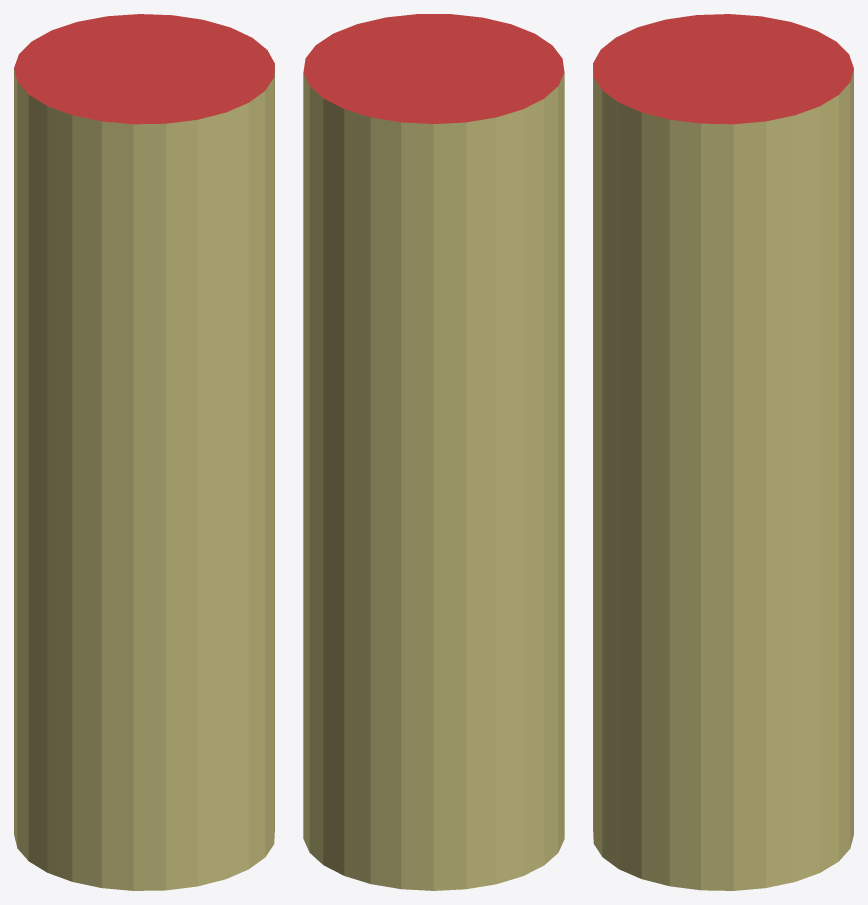
3 views of the same model, side by side, from view 1: azimuth 30°, elevation 25°; view 2: azimuth 150°, elevation 25°; view 3: azimuth 270°, elevation 25° (orthographic).
Bounding box in the file's own units: 5.18 × 5.17 × 16.78.
